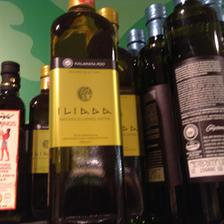Oel: (48, 0, 126, 224), (161, 0, 223, 220), (0, 61, 24, 223)
